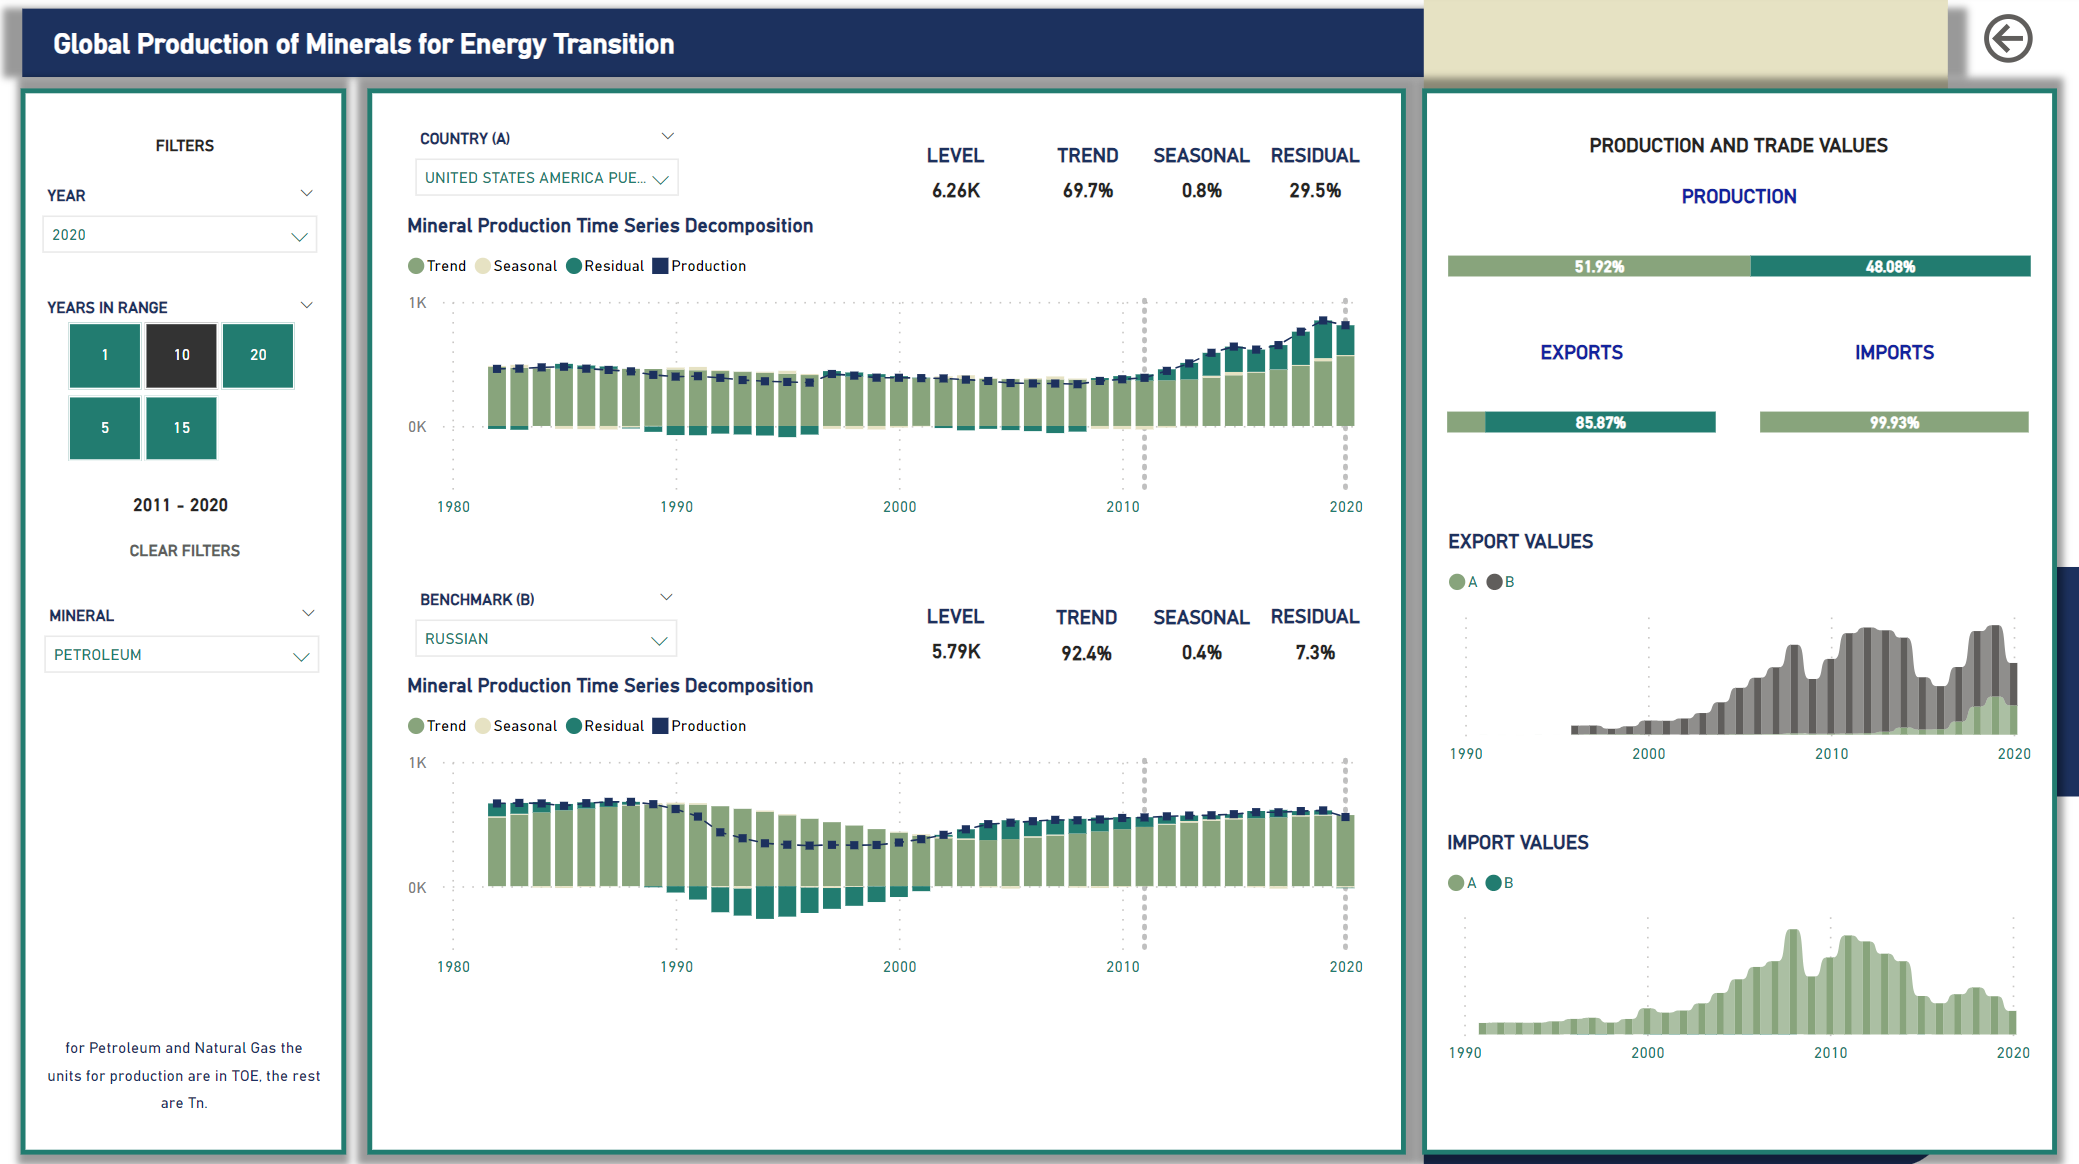

This screenshot's page, from the dashboard's own definition file:
{"tool":"powerbi","page":{"name":"03.Country Benchmark","canvas":[1280,720],"ordinal":6},"visuals":[{"type":"lineStackedColumnComboChart","title":"Mineral Production Time Series Decomposition","fields":{"Category":["dim_calendar.year"],"Y":["_measures.produced_by_country_trend","_measures.produced_by_country_seasonal","_measures.produced_by_country_residual"],"Y2":["_measures.produced_by_country_level"]},"box":[247.7,134.2,597.2,193],"z":0},{"type":"ribbonChart","title":"EXPORT VALUES","fields":{"Category":["dim_calendar.year"],"Y":["_measures.expor_values_country","_measures.expor_values_bench"]},"box":[887,328.1,367.9,150.4],"z":1000},{"type":"slicer","fields":{"Values":["dim_country.country_desc"]},"box":[247.7,76.7,182.1,56.8],"z":2000},{"type":"slicer","fields":{"Values":["tparam_benchmark.country_desc"]},"box":[247.7,359.8,181.4,56.8],"z":3000},{"type":"lineStackedColumnComboChart","title":"Mineral Production Time Series Decomposition","fields":{"Category":["dim_calendar.year"],"Y":["_measures.produced_by_benchmark_trend","_measures.produced_by_benchmark_seasonal","_measures.produced_by_benchmark_residual"],"Y2":["_measures.produced_by_benchmark_level"]},"box":[247.7,416.6,597.2,193.2],"z":4000},{"type":"ribbonChart","title":"IMPORT VALUES","fields":{"Category":["dim_calendar.year"],"Y":["dim_calendar.import_values_country","dim_calendar.import_values_bench"]},"box":[886.3,513.2,367.9,149.7],"z":5000},{"type":"card","title":"TREND","fields":{"Values":["dim_calendar.trend_contribution_prod"]},"box":[635.6,90.7,70,47.2],"z":6000},{"type":"card","title":"SEASONAL","fields":{"Values":["dim_calendar.tsd_seasonal_cointrib"]},"box":[705.6,90.7,70,46.5],"z":7000},{"type":"card","title":"RESIDUAL","fields":{"Values":["dim_calendar.tsd_resid_cointrib"]},"box":[775.7,90.7,69.3,47.2],"z":8000},{"type":"card","title":"TREND","fields":{"Values":["_measures.tsd_trend_contrib_bench"]},"box":[634.8,374.6,70.8,47.9],"z":9000},{"type":"card","title":"SEASONAL","fields":{"Values":["_measures.tsd_seasonal_contrib_bench"]},"box":[705.6,374.6,70,47.2],"z":10000},{"type":"card","title":"RESIDUAL","fields":{"Values":["_measures.tsd_resid_cointrib_bench"]},"box":[775.7,373.8,69.3,47.9],"z":11000},{"type":"hundredPercentStackedBarChart","title":"PRODUCTION","fields":{"Y":["dim_calendar.param_produc_prod","dim_calendar.param_produc_prod_bench"]},"box":[887,114.3,367.9,78.2],"z":12000},{"type":"hundredPercentStackedBarChart","title":"EXPORTS","fields":{"Y":["_measures.param_export_country","_measures.param_export_bench"]},"box":[886.3,210.1,175.5,78.2],"z":13000},{"type":"hundredPercentStackedBarChart","title":"IMPORTS","fields":{"Y":["_measures.param_import_country","_measures.param_import_bench"]},"box":[1078.7,210.1,175.5,78.2],"z":14000},{"type":"textbox","box":[19.3,14.1,414.3,62.5],"z":15000},{"type":"slicer","fields":{"Values":["dim_mineral.mineral_desc"]},"box":[19.5,370,189.4,55.9],"z":16000},{"type":"slicer","fields":{"Values":["tparam_yearsWindow.years"]},"box":[18.5,180.5,189.4,112.5],"z":17000},{"type":"card","title":"TREND","fields":{"Values":["_measures.aux_txt_cont_years"]},"box":[19.2,300.4,188.7,25.9],"z":18000},{"type":"slicer","fields":{"Values":["slicer_year_param.Value"]},"box":[18.5,111.7,189.4,56.2],"z":19000},{"type":"textbox","box":[23.7,76.2,184.1,29.6],"z":20000},{"type":"actionButton","box":[27,328.3,177.9,21.6],"z":21000},{"type":"textbox","box":[887,76.7,367.2,29.5],"z":22000},{"type":"actionButton","box":[1216.6,5.9,44.2,39.8],"z":23000},{"type":"card","title":"LEVEL","fields":{"Values":["_measures.param_produc_prod"]},"box":[544.1,90.7,90.7,47.2],"z":24000},{"type":"textbox","box":[26.6,630,178.2,68],"z":25000},{"type":"card","title":"LEVEL","fields":{"Values":["_measures.param_produc_prod_bench"]},"box":[544.1,373.8,90.7,47.2],"z":26000}]}

Visuals, with their boxes in screenshot pixels (x1, y1, x2, y2), scaled from the page's 1280x720 canvas onto the 2079x1164 screenshot:
"Mineral Production Time Series Decomposition" lineStackedColumnComboChart: bbox(402, 217, 1372, 529)
"EXPORT VALUES" ribbonChart: bbox(1441, 530, 2038, 774)
slicer - dim_country.country_desc: bbox(402, 124, 698, 216)
slicer - tparam_benchmark.country_desc: bbox(402, 582, 697, 674)
"Mineral Production Time Series Decomposition" lineStackedColumnComboChart: bbox(402, 674, 1372, 986)
"IMPORT VALUES" ribbonChart: bbox(1440, 830, 2037, 1072)
"TREND" card: bbox(1032, 147, 1146, 223)
"SEASONAL" card: bbox(1146, 147, 1260, 222)
"RESIDUAL" card: bbox(1260, 147, 1372, 223)
"TREND" card: bbox(1031, 606, 1146, 683)
"SEASONAL" card: bbox(1146, 606, 1260, 682)
"RESIDUAL" card: bbox(1260, 604, 1372, 682)
"PRODUCTION" hundredPercentStackedBarChart: bbox(1441, 185, 2038, 311)
"EXPORTS" hundredPercentStackedBarChart: bbox(1440, 340, 1725, 466)
"IMPORTS" hundredPercentStackedBarChart: bbox(1752, 340, 2037, 466)
textbox: bbox(31, 23, 704, 124)
slicer - dim_mineral.mineral_desc: bbox(32, 598, 339, 689)
slicer - tparam_yearsWindow.years: bbox(30, 292, 338, 474)
"TREND" card: bbox(31, 486, 338, 528)
slicer - slicer_year_param.Value: bbox(30, 181, 338, 271)
textbox: bbox(38, 123, 338, 171)
actionButton: bbox(44, 531, 333, 566)
textbox: bbox(1441, 124, 2037, 172)
actionButton: bbox(1976, 10, 2048, 74)
"LEVEL" card: bbox(884, 147, 1031, 223)
textbox: bbox(43, 1018, 333, 1128)
"LEVEL" card: bbox(884, 604, 1031, 681)
